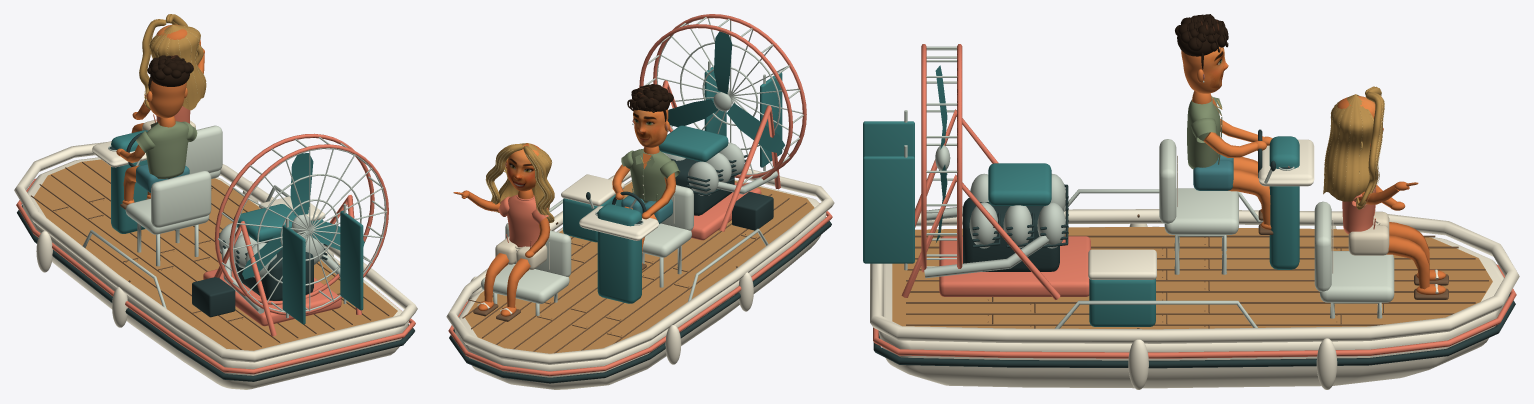
The model's file is airboat-couple-v4.glb.
The picture shows the model from 3 angles, left to right: view 1: azimuth 30°, elevation 25°; view 2: azimuth 150°, elevation 25°; view 3: azimuth 270°, elevation 25°; orthographic projection. The views are drawn at different scales.
Visible parts, largest first — view 1: Hull_teak, Hull_cream, Hull_coral, Hull_teal, Hull_chrome, Hull_rubber, Hull_canvas, NinaHead_hairN, Barron_shirt, Fan_teal, Hull_seam, BarronHead_hairB (+3 smaller); view 2: Hull_teak, Hull_cream, Hull_teal, Hull_coral, Hull_chrome, Hull_rubber, Hull_canvas, Fan_teal, Hull_seam, NinaHead_hairN, Nina_skinN, Barron_shirt (+10 smaller); view 3: Hull_cream, Hull_teak, Hull_teal, Hull_coral, Hull_chrome, Hull_canvas, Hull_rubber, Hull_seam, NinaHead_hairN, Nina_skinN, Barron_skinB, Barron_shirt (+7 smaller).
Part boxes in pixels (<box>): Hull_teak: <box>34,159,397,350</box>; Hull_cream: <box>14,141,417,389</box>; Hull_coral: <box>16,133,415,374</box>; Hull_teal: <box>111,130,363,324</box>; Hull_chrome: <box>82,137,387,318</box>; Hull_rubber: <box>17,131,414,381</box>; Hull_canvas: <box>125,125,222,234</box>; NinaHead_hairN: <box>139,14,206,110</box>; Barron_shirt: <box>136,121,197,178</box>; Fan_teal: <box>242,153,364,279</box>; Hull_seam: <box>31,162,389,349</box>; BarronHead_hairB: <box>147,55,193,90</box>; Hull_teak: <box>465,181,814,353</box>; Hull_cream: <box>446,169,834,389</box>; Hull_teal: <box>563,65,782,303</box>; Hull_coral: <box>448,14,832,376</box>; Hull_chrome: <box>493,17,803,315</box>; Hull_rubber: <box>449,155,831,383</box>; Hull_canvas: <box>481,185,693,303</box>; Fan_teal: <box>668,31,785,153</box>; Hull_seam: <box>462,194,806,353</box>; NinaHead_hairN: <box>485,143,554,222</box>; Nina_skinN: <box>478,189,550,316</box>; Barron_shirt: <box>621,148,680,203</box>; Hull_cream: <box>870,139,1519,389</box>; Hull_teak: <box>892,227,1492,329</box>; Hull_teal: <box>863,121,1299,326</box>; Hull_coral: <box>873,44,1516,358</box>; Hull_chrome: <box>904,46,1382,328</box>; Hull_canvas: <box>1159,139,1394,302</box>; Hull_rubber: <box>873,129,1515,368</box>; Hull_seam: <box>906,214,1488,328</box>; NinaHead_hairN: <box>1323,86,1384,209</box>; Nina_skinN: <box>1376,184,1445,294</box>; Barron_skinB: <box>1192,91,1272,229</box>; Barron_shirt: <box>1187,96,1222,169</box>.
Bounding box in the file's own units: 3.36 × 3.58 × 6.97.
Materials: 25 (4 with a texture image).
